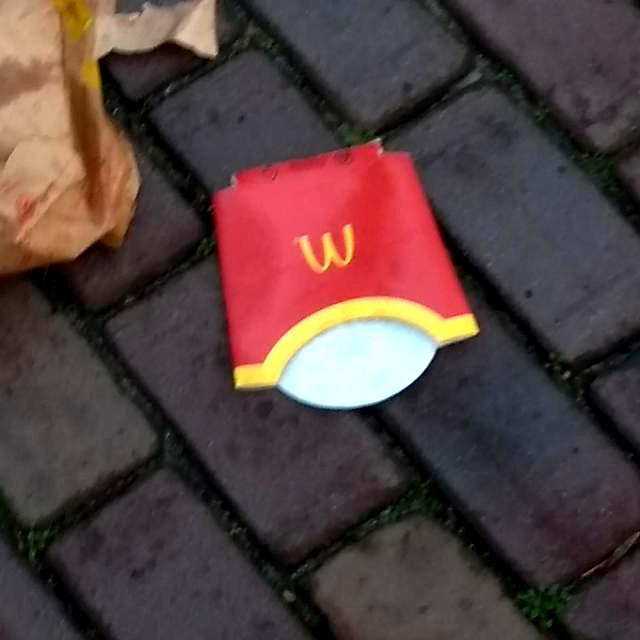Paper: (206, 132, 482, 414)
